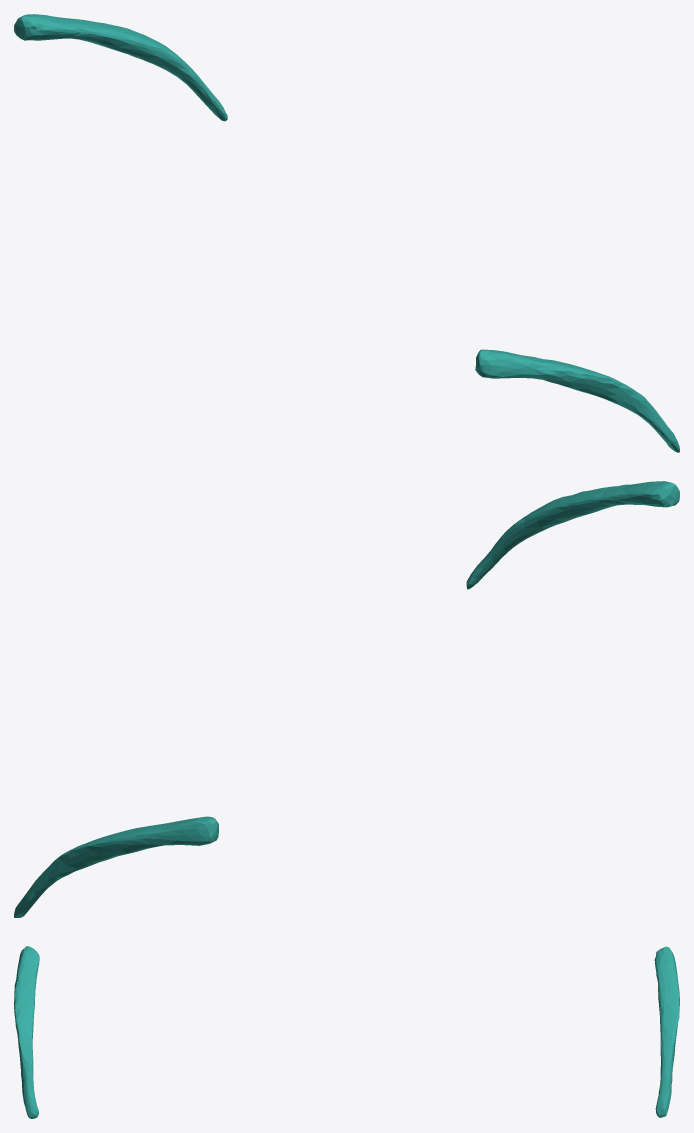
The picture shows the model from 3 angles, top to bottom: view 1: azimuth 30°, elevation 25°; view 2: azimuth 150°, elevation 25°; view 3: azimuth 270°, elevation 25°; orthographic projection. The views are drawn at different scales.
Parts seen in each view (by area): view 1: 888.obj; view 2: 888.obj; view 3: 888.obj.
Boxes of the visible parts, <box> form: 888.obj: <box>14,14,679,452</box>; 888.obj: <box>14,481,679,917</box>; 888.obj: <box>14,946,679,1118</box>.
Bounding box in the file's own units: 2423 × 1697 × 9734.
